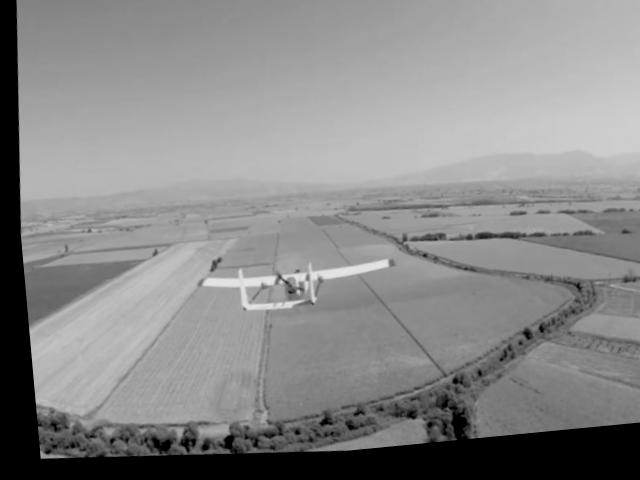hedef: (181, 229, 396, 352)
